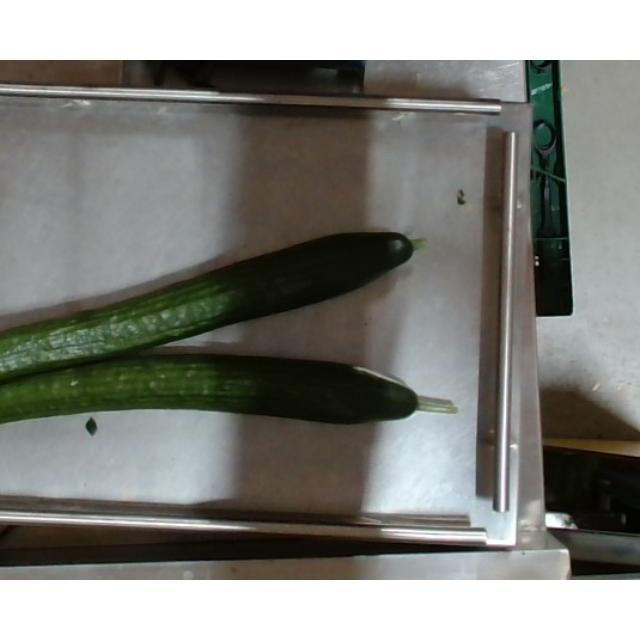cucumber: (0, 230, 426, 380), (0, 355, 458, 429)
